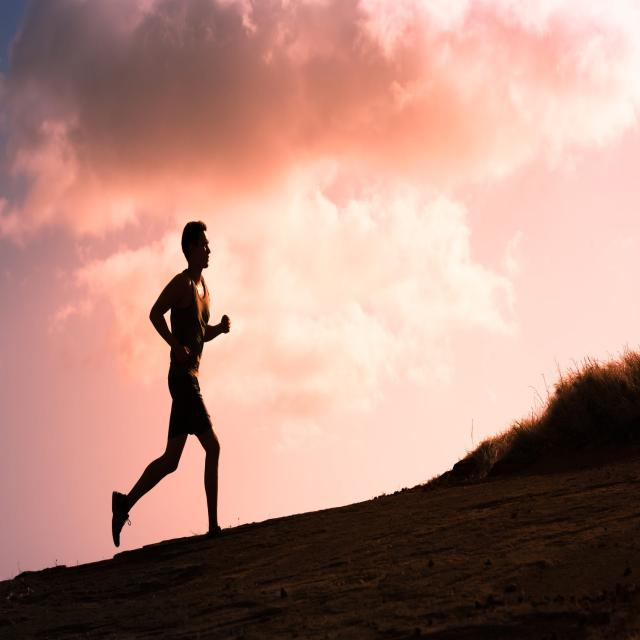running: (110, 216, 233, 546)
